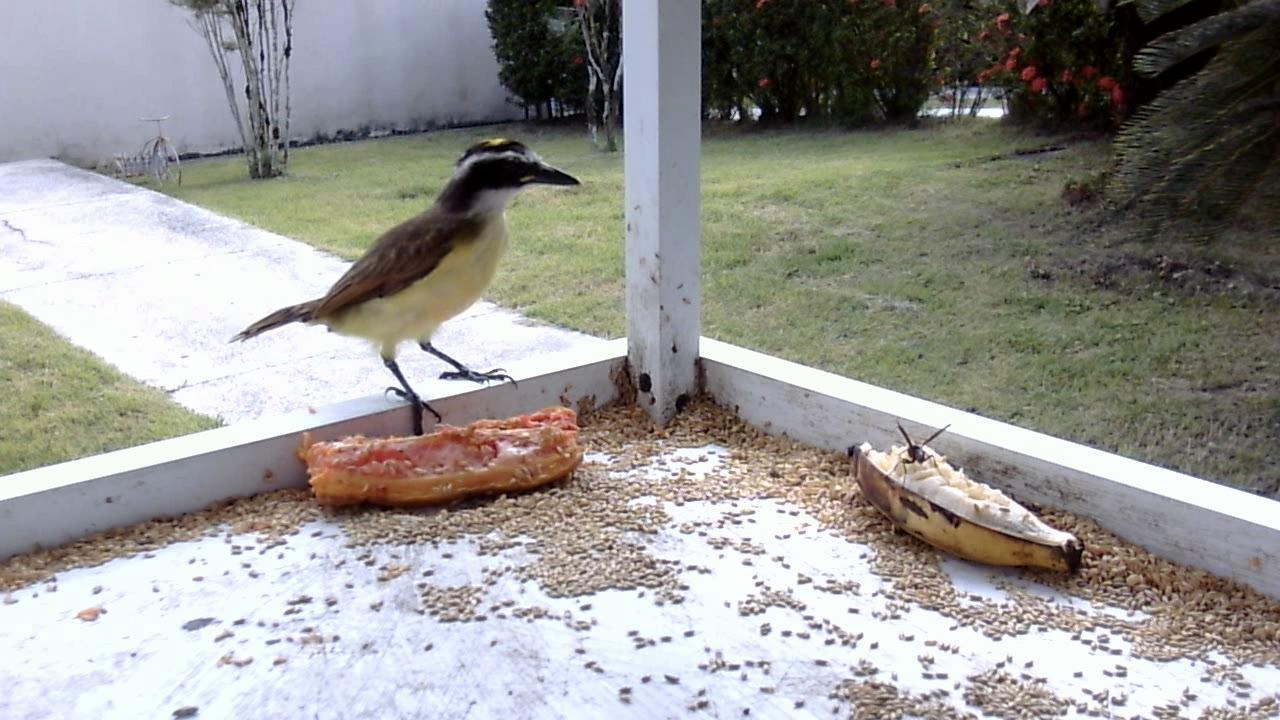bem_te_vi: (220, 132, 583, 441)
